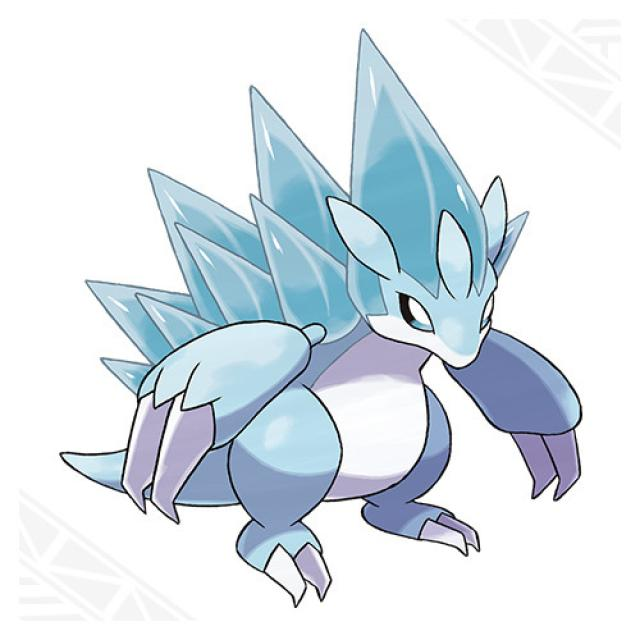Alolan: (81, 70, 573, 582)
